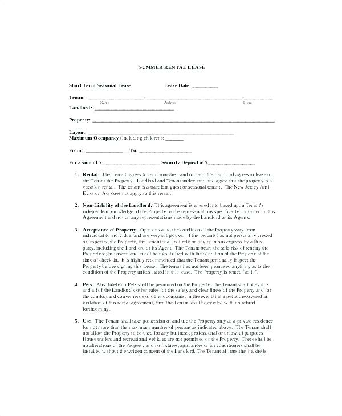textline: (85, 92, 275, 103), (92, 116, 276, 125), (86, 127, 237, 136), (92, 103, 176, 112), (138, 146, 193, 156), (100, 158, 160, 166), (207, 157, 254, 166), (83, 145, 124, 155), (190, 80, 220, 91), (164, 136, 183, 142)
